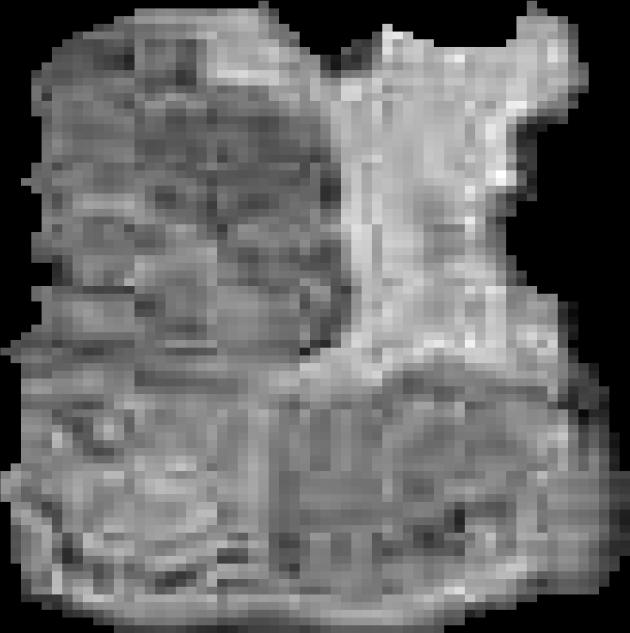tumor_less_chance: (0, 1, 630, 633)
